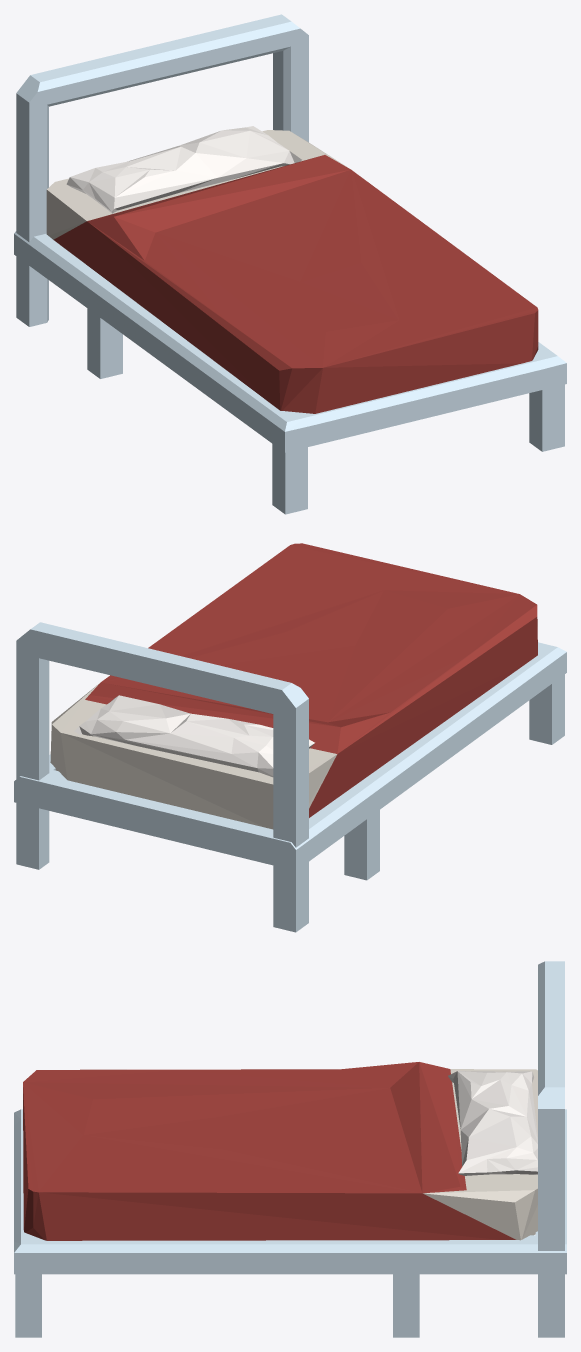
File: Bed.fbx
3 views of the same model, one above another, from view 1: azimuth 30°, elevation 25°; view 2: azimuth 150°, elevation 25°; view 3: azimuth 270°, elevation 25° (orthographic). The views are drawn at different scales.
Parts seen in each view (by area): view 1: Pillow.003; view 2: Pillow.003; view 3: Pillow.003.
Part boxes in pixels (left/top/right/bottom): Pillow.003: left=14, top=14, right=566, bottom=514; Pillow.003: left=14, top=543, right=566, bottom=932; Pillow.003: left=14, top=961, right=566, bottom=1337.
Bounding box in the file's own units: 442 × 358 × 736.
